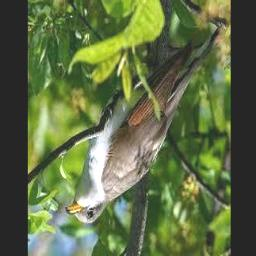Cuckoo: (66, 42, 201, 225)
